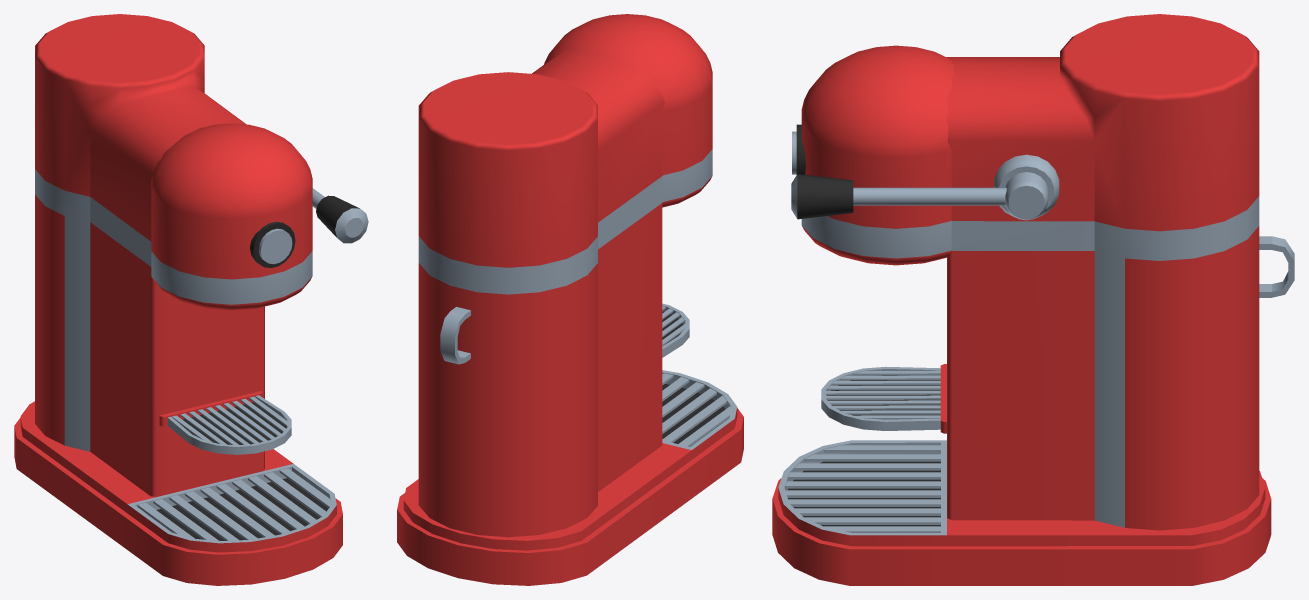
The model's file is cofee_machine.glb.
3 views of the same model, side by side, from view 1: azimuth 30°, elevation 25°; view 2: azimuth 150°, elevation 25°; view 3: azimuth 270°, elevation 25° (orthographic). The views are drawn at different scales.
Parts seen in each view (by area): view 1: cofee_machine; view 2: cofee_machine; view 3: cofee_machine.
Boxes of the visible parts, box(x1,y1,x2,y2) form: cofee_machine: box(14, 14, 368, 585); cofee_machine: box(397, 14, 743, 585); cofee_machine: box(772, 14, 1294, 585).
Bounding box in the file's own units: 2.69 × 5.76 × 5.66.
